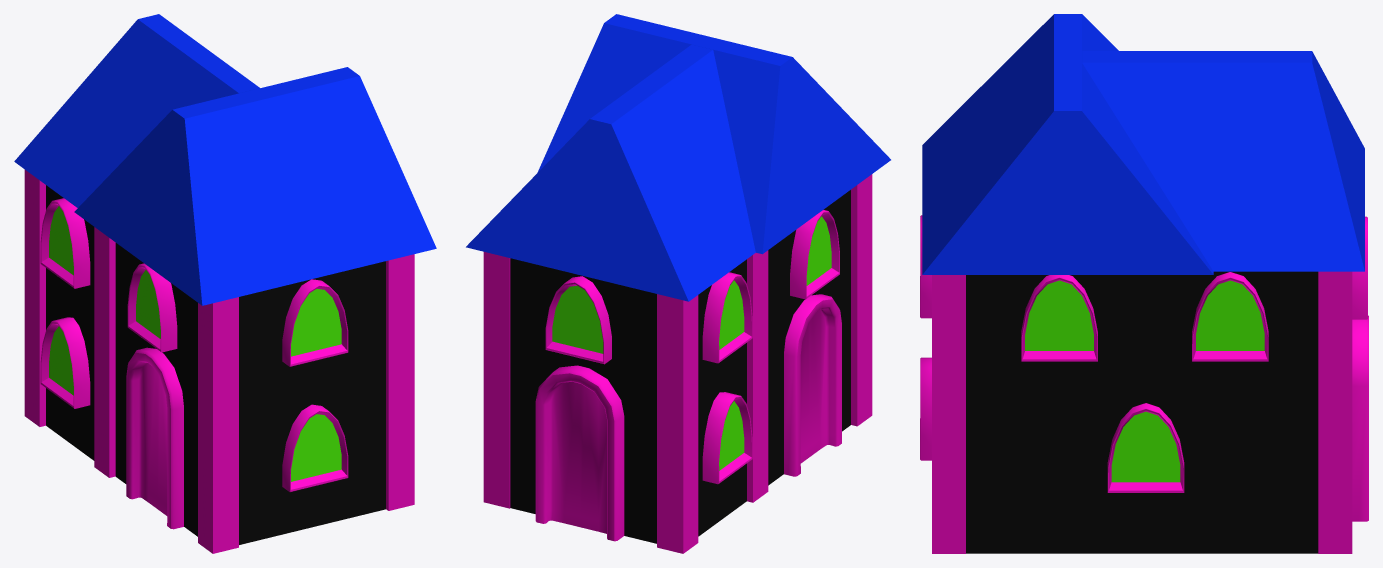
The model's file is Maison_03.FBX.
The picture shows the model from 3 angles, left to right: view 1: azimuth 30°, elevation 25°; view 2: azimuth 150°, elevation 25°; view 3: azimuth 270°, elevation 25°; orthographic projection. The views are drawn at different scales.
Parts seen in each view (by area): view 1: Maison_03; view 2: Maison_03; view 3: Maison_03.
Part boxes in pixels (left/top/right/bottom): Maison_03: left=14, top=14, right=436, bottom=553; Maison_03: left=466, top=14, right=890, bottom=553; Maison_03: left=920, top=14, right=1368, bottom=553.
Size of the model in its own units: 72.26 by 115 by 105.
